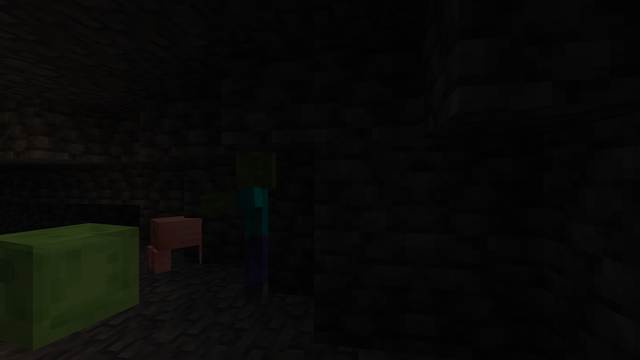cochons: (154, 213, 204, 271)
slimes: (3, 220, 141, 348)
zombies: (229, 154, 282, 303)
